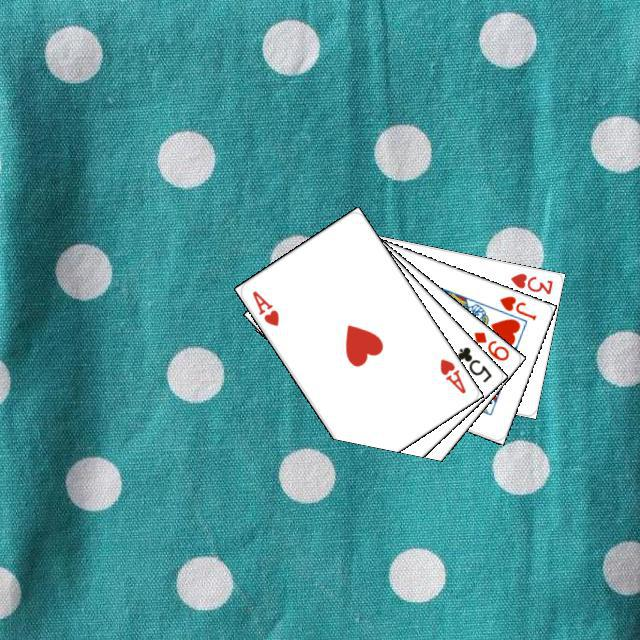3h: (505, 268, 555, 296)
5c: (452, 342, 493, 384)
9d: (468, 327, 511, 363)
Ah: (247, 286, 281, 328), (435, 354, 468, 395)
Jh: (494, 291, 538, 322)
